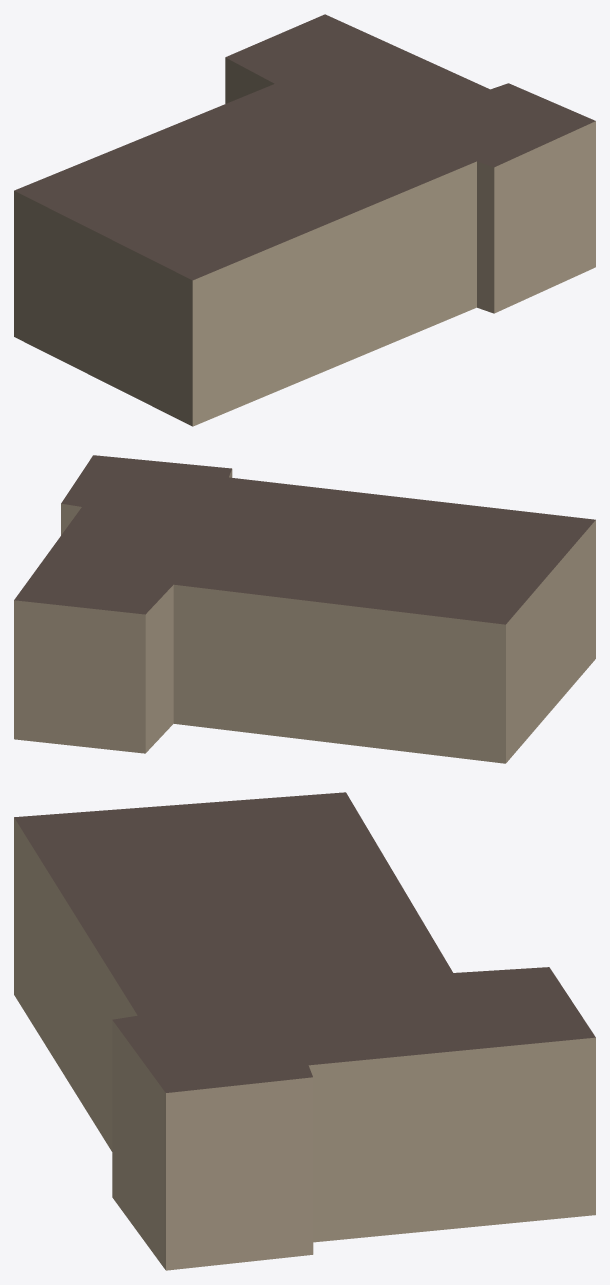
3 views of the same model, one above another, from view 1: azimuth 30°, elevation 25°; view 2: azimuth 150°, elevation 25°; view 3: azimuth 270°, elevation 25° (orthographic). The views are drawn at different scales.
Visible parts, largest first — view 1: HP-w776801005; view 2: HP-w776801005; view 3: HP-w776801005.
Part boxes in pixels (x1,y1,x2,y2): HP-w776801005: (14,14,595,426); HP-w776801005: (14,455,595,763); HP-w776801005: (14,792,595,1270).
Bounding box in the file's own units: 32.71 × 9 × 26.74.
